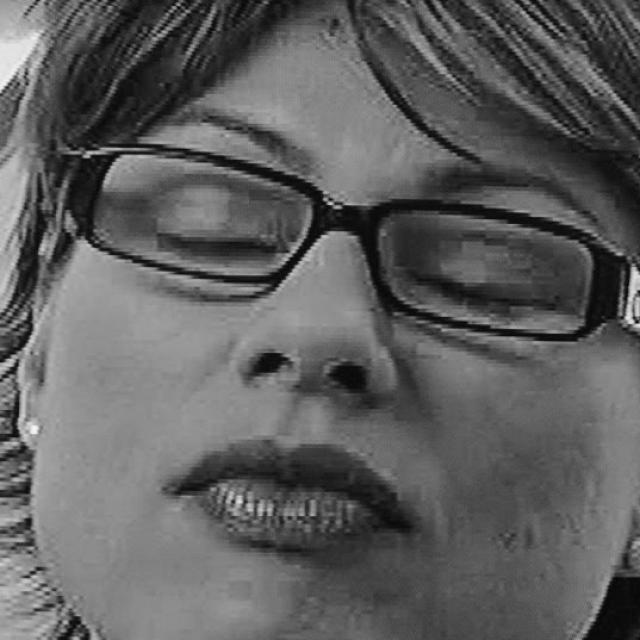real: (21, 16, 615, 624), (124, 149, 586, 340)
